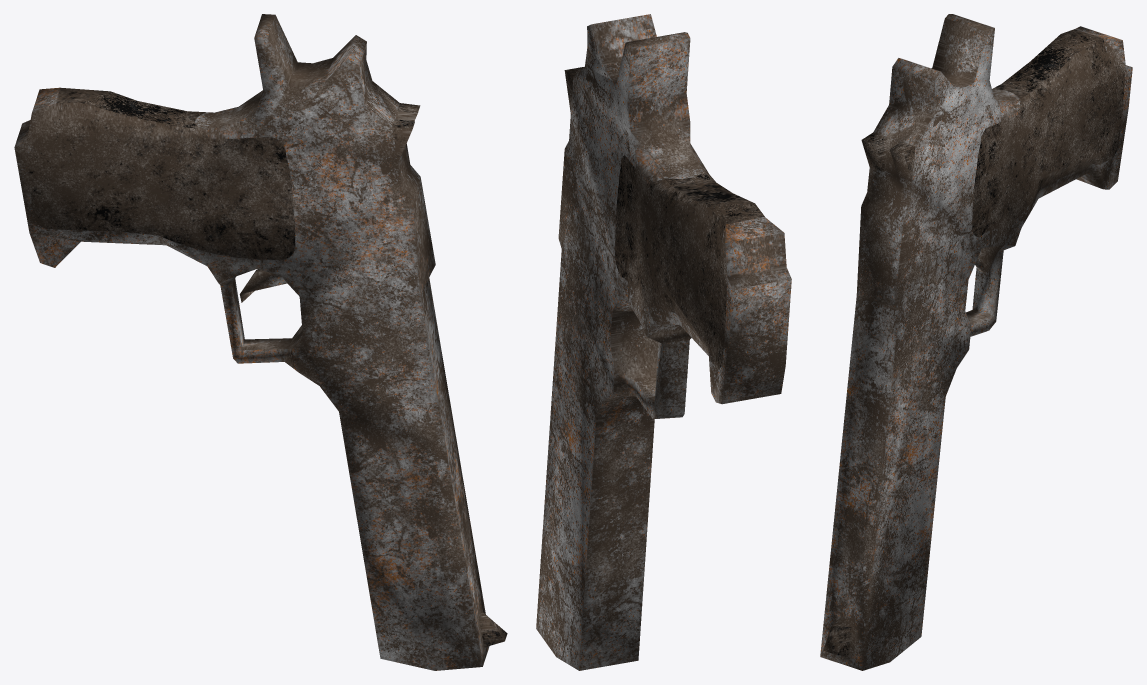
File: Anim_idle_pistola_objetos.0041.obj
The picture shows the model from 3 angles, left to right: view 1: azimuth 30°, elevation 25°; view 2: azimuth 150°, elevation 25°; view 3: azimuth 270°, elevation 25°; orthographic projection. The views are drawn at different scales.
Visible parts, largest first — view 1: Pistola1; view 2: Pistola1; view 3: Pistola1.
Boxes of the visible parts, bbox=[...] form: Pistola1: bbox=[14, 14, 507, 670]; Pistola1: bbox=[536, 14, 791, 670]; Pistola1: bbox=[820, 14, 1132, 670].
Bounding box in the file's own units: 0.9945 × 1.66 × 0.8117.
